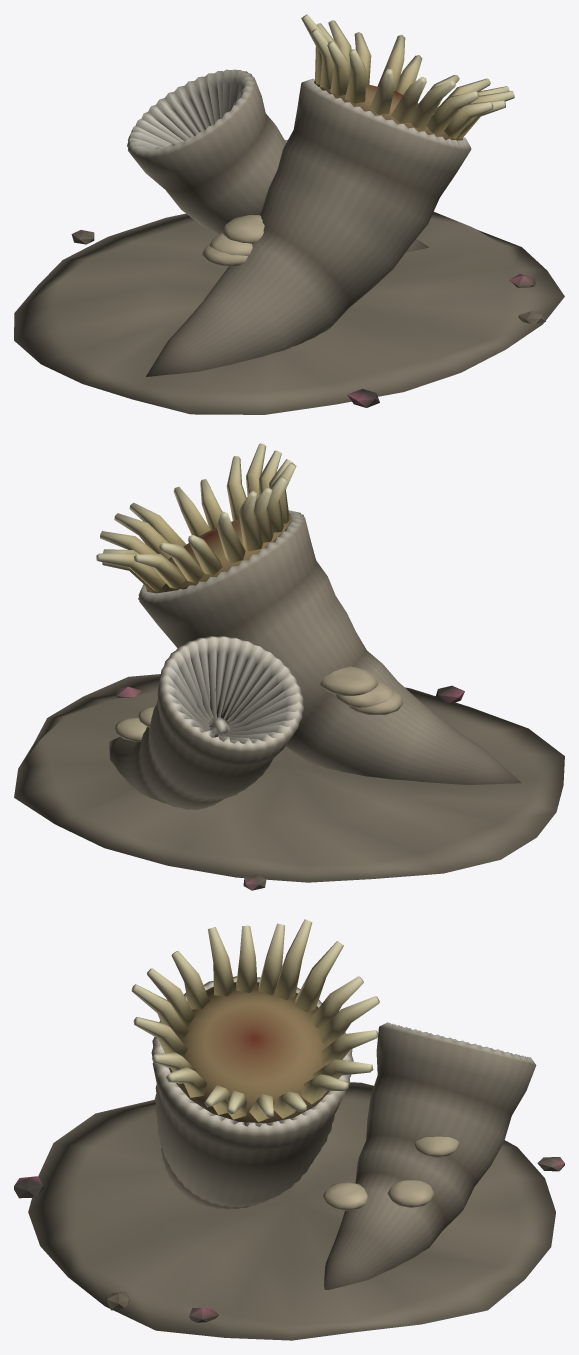
The model's file is GrewingkiaCanadensis.fbx.
3 renders of one model, top to bottom at view 1: azimuth 30°, elevation 25°; view 2: azimuth 150°, elevation 25°; view 3: azimuth 270°, elevation 25°, orthographic. The views are drawn at different scales.
Visible parts, largest first — view 1: GrewingkiaCanadensis; view 2: GrewingkiaCanadensis; view 3: GrewingkiaCanadensis.
Part boxes in pixels (x1,y1,x2,y2): GrewingkiaCanadensis: (14, 14, 564, 414); GrewingkiaCanadensis: (14, 443, 564, 890); GrewingkiaCanadensis: (14, 919, 564, 1340).
Size of the model in its own units: 1.86 by 1.1 by 1.66.
